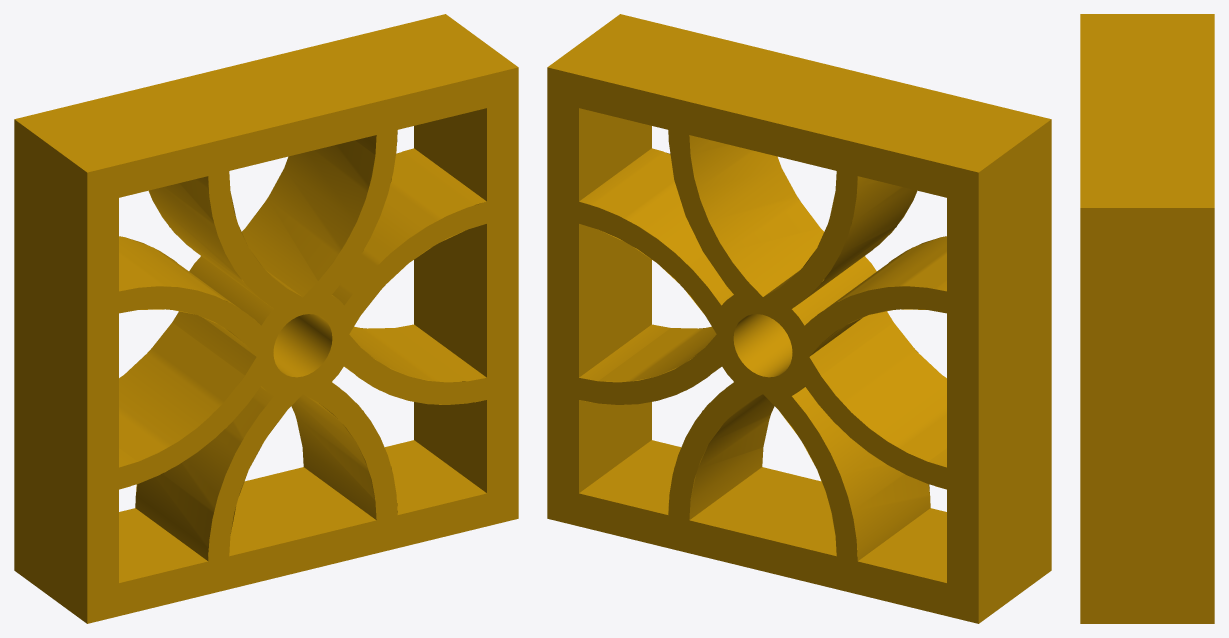
The model's file is Four-Petal.gltf.
3 views of the same model, side by side, from view 1: azimuth 30°, elevation 25°; view 2: azimuth 150°, elevation 25°; view 3: azimuth 270°, elevation 25° (orthographic). The views are drawn at different scales.
Parts seen in each view (by area): view 1: 13220; view 2: 13220; view 3: 13220.
Boxes of the visible parts, left/top/right/bottom form: 13220: left=14, top=14, right=518, bottom=623; 13220: left=547, top=14, right=1051, bottom=623; 13220: left=1080, top=14, right=1214, bottom=623.
Bounding box in the file's own units: 0.2047 × 0.2047 × 0.0599.
